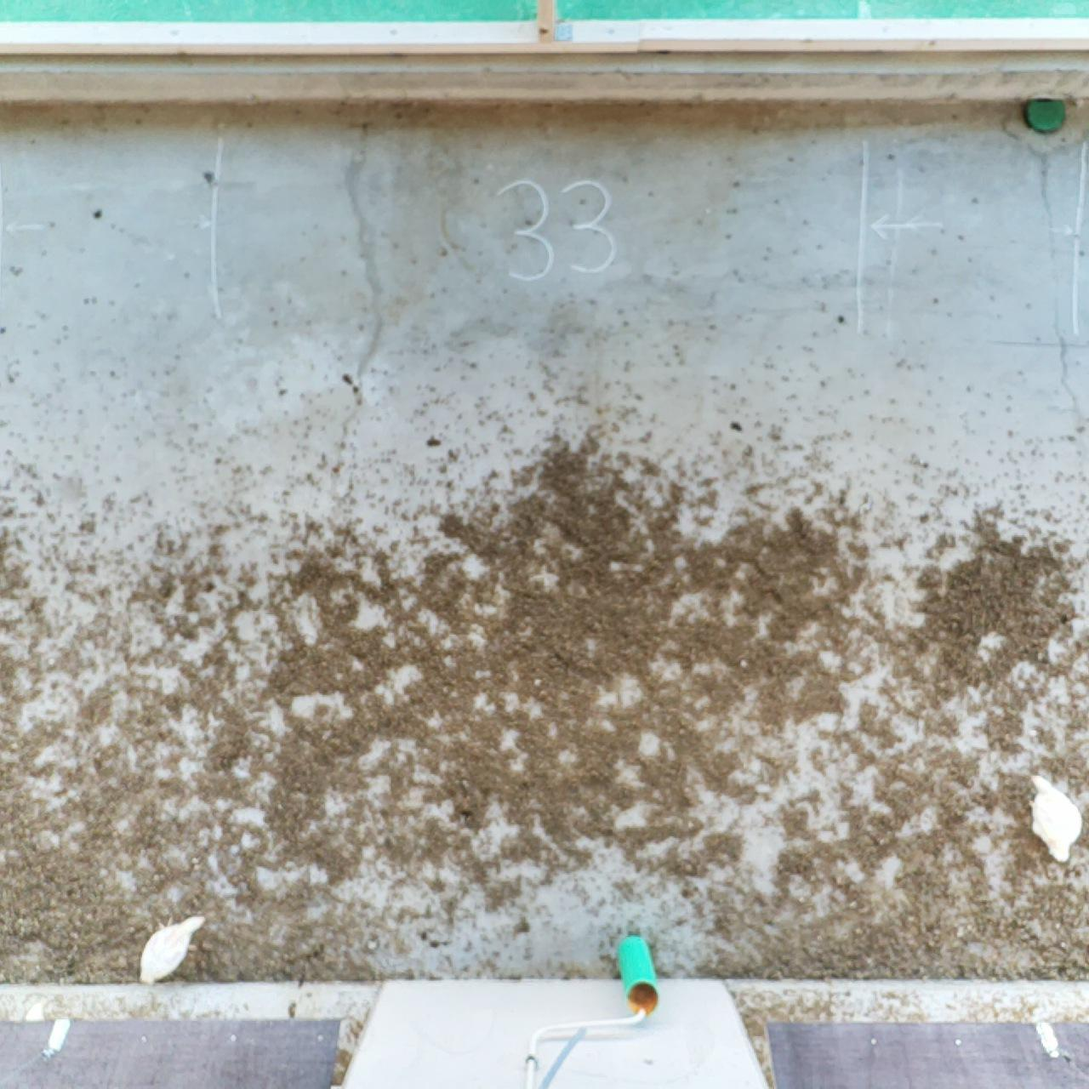chicken: (1023, 769, 1086, 867), (136, 910, 207, 989)
